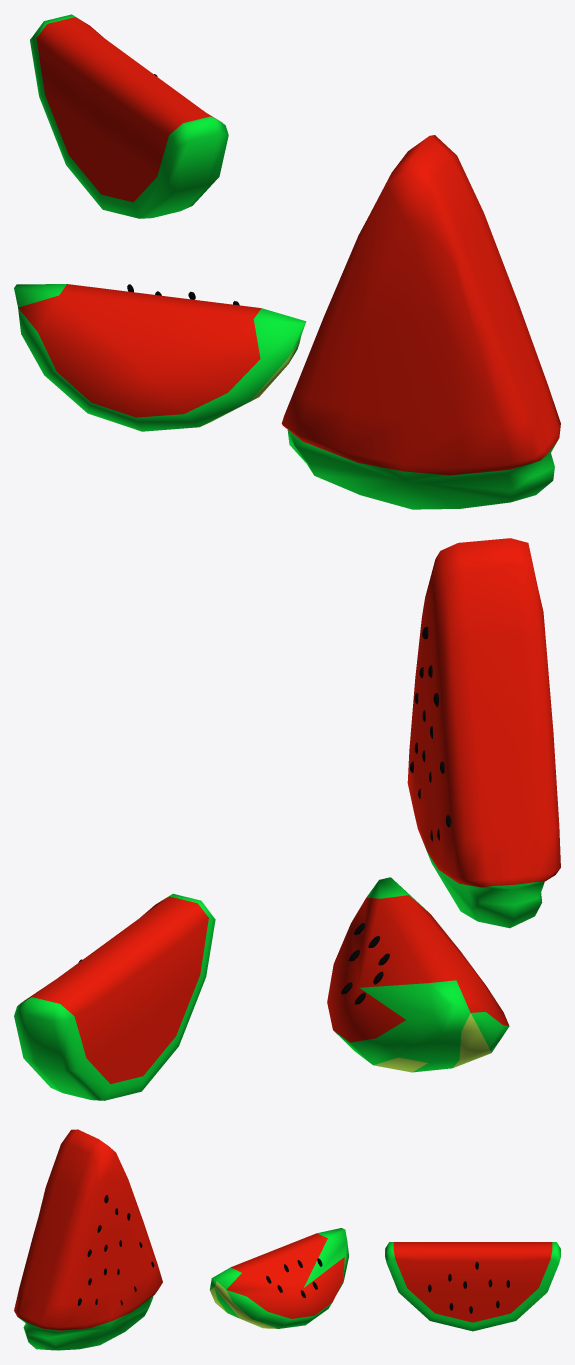
Rendered from melancia(tris_reduzidos).fbx.
3 views of the same model, one above another, from view 1: azimuth 30°, elevation 25°; view 2: azimuth 150°, elevation 25°; view 3: azimuth 270°, elevation 25° (orthographic). The views are drawn at different scales.
Visible parts, largest first — view 1: melancia(pedaço), melancia3, melancia2; view 2: melancia(pedaço), melancia2, melancia3; view 3: melancia(pedaço), melancia2, melancia3.
Boxes of the visible parts, box(x1,y1,x2,y2) form: melancia(pedaço): box(281, 135, 560, 509); melancia3: box(14, 284, 306, 431); melancia2: box(30, 14, 228, 218); melancia(pedaço): box(407, 538, 560, 928); melancia2: box(14, 893, 215, 1100); melancia3: box(327, 877, 509, 1072); melancia(pedaço): box(14, 1129, 162, 1350); melancia2: box(385, 1242, 560, 1331); melancia3: box(209, 1228, 348, 1328).
Bounding box in the file's own units: 224 × 258 × 598.
